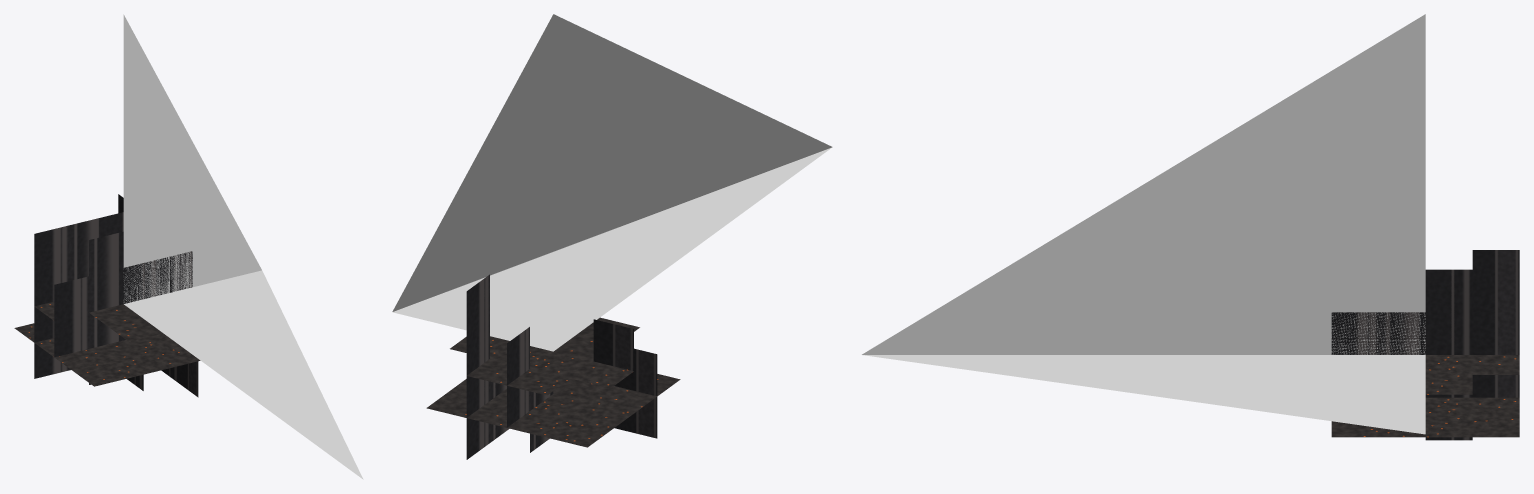
Rendered from tiles.glb.
3 renders of one model, left to right at view 1: azimuth 30°, elevation 25°; view 2: azimuth 150°, elevation 25°; view 3: azimuth 270°, elevation 25°, orthographic. The views are drawn at different scales.
Parts seen in each view (by area): view 1: mb_frame, tetra_b1h3, edge_inner_b2h4, slab_b4h0, edge_b1h1, tetra_b3h1, ell_b3h0, edge_b0h2, ell_b0h3, corner_b0h1, edge_inner_b4h2, tetra_b3h1_outdoor (+11 smaller); view 2: mb_frame, twist_left_b1h3, ell_b2h1_b, ell_b3h0, ell_b3h0_outdoor, ell_b1h2_b, tetra_b3h1, twist_left_b2h2, edge_b2h0, twist_left_b3h1_outdoor, tetra_b3h1_outdoor, spike_b1h1 (+10 smaller); view 3: mb_frame, corner_inner_b3h4, tetra_b1h3, twist_right_b3h1, ell_b0h3, ell_b1h2_a, corner_b0h1, edge_b1h1, edge_b2h0, twist_right_b3h1_outdoor, ell_b2h1_a, ell_inner_b3h2_b (+6 smaller).
Part boxes in pixels (bbox=[...]): mb_frame: bbox=[123, 14, 363, 479]; tetra_b1h3: bbox=[54, 231, 123, 320]; edge_inner_b2h4: bbox=[123, 251, 192, 303]; slab_b4h0: bbox=[89, 334, 197, 377]; edge_b1h1: bbox=[34, 226, 68, 375]; tetra_b3h1: bbox=[35, 301, 123, 357]; ell_b3h0: bbox=[35, 338, 128, 386]; edge_b0h2: bbox=[36, 212, 123, 267]; ell_b0h3: bbox=[89, 232, 123, 276]; corner_b0h1: bbox=[34, 225, 68, 269]; edge_inner_b4h2: bbox=[91, 335, 197, 377]; tetra_b3h1_outdoor: bbox=[34, 302, 123, 356]; mb_frame: bbox=[392, 14, 832, 351]; twist_left_b1h3: bbox=[593, 319, 657, 437]; ell_b2h1_b: bbox=[466, 274, 529, 427]; ell_b3h0: bbox=[530, 374, 680, 430]; ell_b3h0_outdoor: bbox=[428, 374, 679, 437]; ell_b1h2_b: bbox=[466, 327, 529, 459]; tetra_b3h1: bbox=[509, 351, 633, 394]; twist_left_b2h2: bbox=[450, 327, 529, 458]; edge_b2h0: bbox=[426, 391, 569, 437]; twist_left_b3h1_outdoor: bbox=[466, 318, 640, 443]; tetra_b3h1_outdoor: bbox=[521, 352, 632, 393]; spike_b1h1: bbox=[466, 276, 673, 438]; mb_frame: bbox=[862, 14, 1425, 434]; corner_inner_b3h4: bbox=[1331, 312, 1461, 396]; tetra_b1h3: bbox=[1425, 269, 1519, 354]; twist_right_b3h1: bbox=[1331, 397, 1472, 437]; ell_b0h3: bbox=[1425, 269, 1472, 312]; ell_b1h2_a: bbox=[1472, 312, 1519, 354]; corner_b0h1: bbox=[1472, 250, 1519, 292]; edge_b1h1: bbox=[1472, 250, 1519, 312]; edge_b2h0: bbox=[1472, 397, 1519, 437]; twist_right_b3h1_outdoor: bbox=[1331, 375, 1519, 437]; ell_b2h1_a: bbox=[1472, 375, 1519, 437]; ell_inner_b3h2_b: bbox=[1425, 355, 1472, 394].
Size of the model in its own units: 1.5 by 2.5 by 3.5.
Materials: 2 (2 with a texture image).
